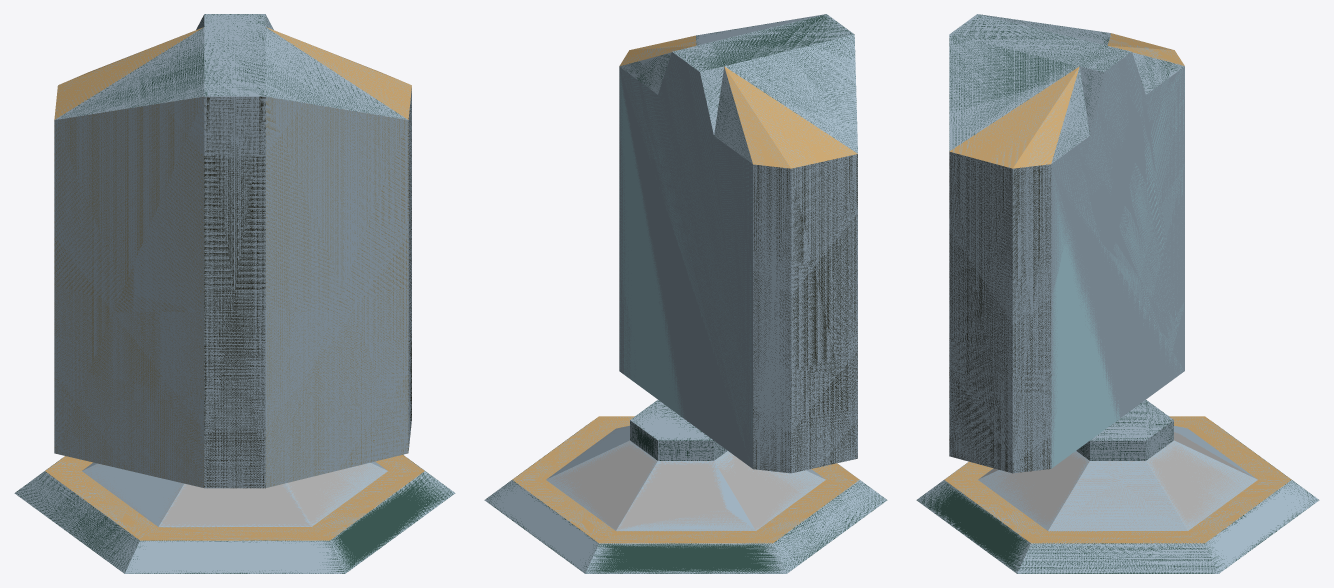
The model's file is Mirror.fbx.
3 views of the same model, side by side, from view 1: azimuth 30°, elevation 25°; view 2: azimuth 150°, elevation 25°; view 3: azimuth 270°, elevation 25° (orthographic). The views are drawn at different scales.
Parts seen in each view (by area): view 1: Mirror1; view 2: Mirror1; view 3: Mirror1.
Part boxes in pixels (x1,y1,x2,y2): Mirror1: (14, 14, 455, 573); Mirror1: (484, 14, 887, 573); Mirror1: (916, 14, 1319, 573).
Bounding box in the file's own units: 0.6592 × 0.8627 × 0.72.
